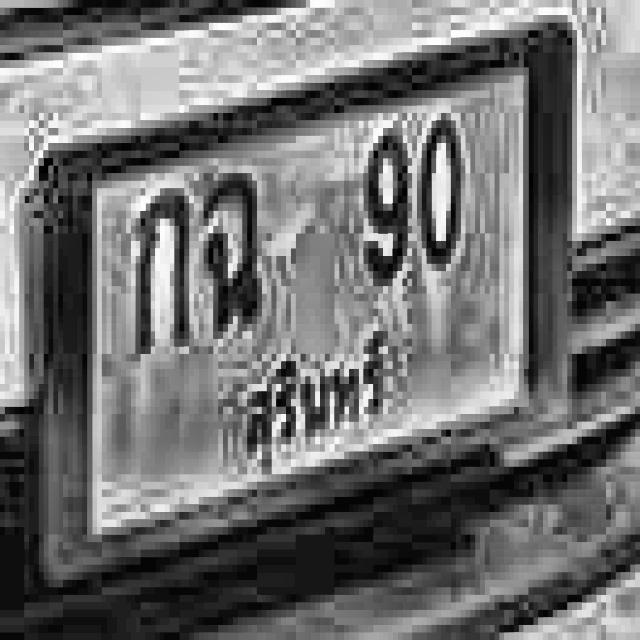license-plate: (22, 16, 596, 610)
